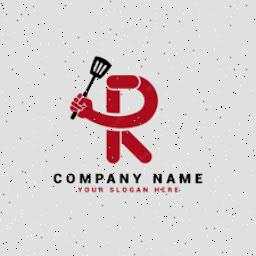a: (104, 171, 118, 185)
c: (52, 172, 64, 186)
e: (195, 170, 205, 186)
m: (78, 172, 94, 184), (180, 170, 192, 186)
n: (118, 172, 130, 184)
o: (66, 172, 76, 186)
p: (94, 172, 104, 184)
y: (132, 172, 142, 184)
